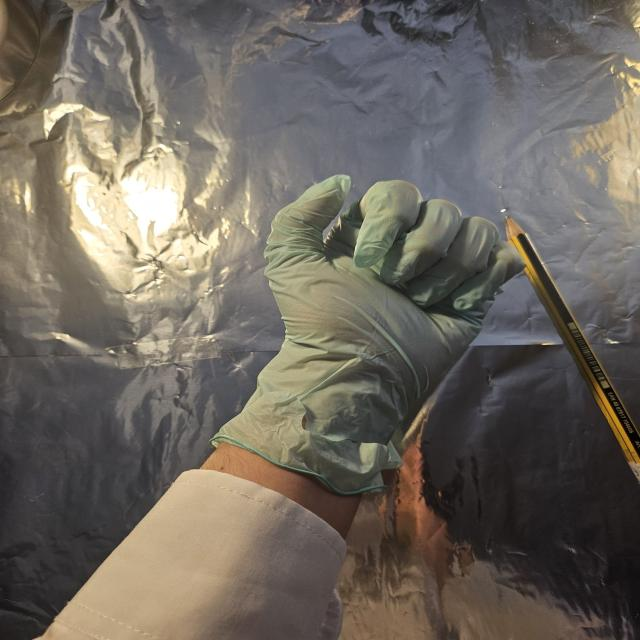gloves_damaged: (206, 174, 527, 493)
